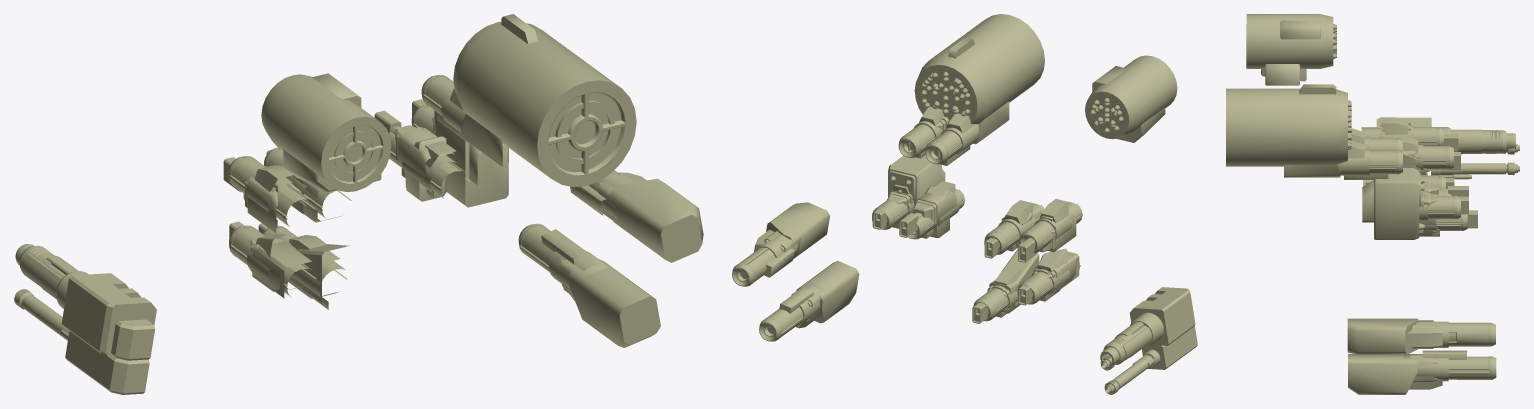
File: ThunderboltWeapons.glb
The picture shows the model from 3 angles, left to right: view 1: azimuth 30°, elevation 25°; view 2: azimuth 150°, elevation 25°; view 3: azimuth 270°, elevation 25°; orthographic projection. The views are drawn at different scales.
Visible parts, largest first — view 1: Torso_Right_MH1_Missile4, Forearm_Left_BH1_AC10, Forearm_Right_EH2_PPC, Forearm_Right_EH1_PPC, Torso_Left_MH1_Missile6, Torso_Left_MH1_Missile10, Torso_Right_MH1_Missile5, Forearm_Left_BH2_AC5, Torso_Right_EH1_PPC, Torso_Left_EH4_PPC, Torso_Left_MH1_Missile2, Torso_Right_MH2_Missile6 (+13 smaller); view 2: Torso_Right_MH1_Missile4, Forearm_Left_BH1_AC10, Torso_Left_MH1_Missile6, Forearm_Right_EH1_PPC, Forearm_Right_EH2_PPC, Torso_Right_EH1_PPC, Torso_Right_MH1_Missile15, Torso_Right_MH1_Missile5, Forearm_Left_BH2_AC5, Torso_Left_MH1_Missile10, Torso_Left_EH1_PPC, Torso_Left_EH3_PPC (+21 smaller); view 3: Torso_Right_MH1_Missile10, Forearm_Right_EH2_PPC, Forearm_Right_EH1_PPC, Torso_Left_MH1_Missile10, Torso_Right_MH1_Missile15, Torso_Right_MH1_Missile5, Torso_Right_EH2_PPC, Torso_Right_MH2_Missile10, Forearm_Left_BH1_AC10, Torso_Left_MH1_Missile2, Torso_Right_MH2_Missile6, Torso_Left_MH1_Missile6 (+14 smaller).
Boxes of the visible parts, x1,y1,x2,y2 form: Torso_Right_MH1_Missile4: (457, 14, 636, 187); Forearm_Left_BH1_AC10: (15, 244, 156, 360); Forearm_Right_EH2_PPC: (518, 223, 660, 347); Forearm_Right_EH1_PPC: (570, 170, 703, 262); Torso_Left_MH1_Missile6: (261, 74, 381, 189); Torso_Left_MH1_Missile10: (265, 73, 391, 192); Torso_Right_MH1_Missile5: (469, 17, 622, 173); Forearm_Left_BH2_AC5: (14, 289, 149, 394); Torso_Right_EH1_PPC: (421, 74, 505, 169); Torso_Left_EH4_PPC: (228, 156, 316, 226); Torso_Left_MH1_Missile2: (261, 97, 382, 191); Torso_Right_MH2_Missile6: (419, 136, 508, 206); Torso_Right_MH1_Missile4: (924, 22, 1044, 120); Forearm_Left_BH1_AC10: (1100, 287, 1195, 366); Torso_Left_MH1_Missile6: (1085, 55, 1177, 138); Forearm_Right_EH1_PPC: (732, 202, 829, 286); Forearm_Right_EH2_PPC: (759, 260, 859, 341); Torso_Right_EH1_PPC: (925, 101, 1009, 165); Torso_Right_MH1_Missile15: (914, 14, 1001, 124); Torso_Right_MH1_Missile5: (926, 14, 1023, 113); Forearm_Left_BH2_AC5: (1104, 326, 1197, 394); Torso_Left_MH1_Missile10: (1085, 56, 1176, 140); Torso_Left_EH1_PPC: (984, 200, 1044, 254); Torso_Left_EH3_PPC: (1017, 248, 1080, 304); Torso_Right_MH1_Missile10: (1226, 87, 1351, 166); Forearm_Right_EH2_PPC: (1348, 350, 1496, 394); Forearm_Right_EH1_PPC: (1347, 318, 1495, 354); Torso_Left_MH1_Missile10: (1246, 16, 1336, 85); Torso_Right_MH1_Missile15: (1226, 89, 1351, 166); Torso_Right_MH1_Missile5: (1226, 88, 1351, 127); Torso_Right_EH2_PPC: (1284, 141, 1402, 179); Torso_Right_MH2_Missile10: (1374, 178, 1424, 239); Forearm_Left_BH1_AC10: (1376, 117, 1515, 153); Torso_Left_MH1_Missile2: (1246, 30, 1336, 85); Torso_Right_MH2_Missile6: (1374, 168, 1424, 238); Torso_Left_MH1_Missile6: (1246, 14, 1336, 85).
Bounding box in the file's own units: 2.01 × 1.24 × 1.28.
